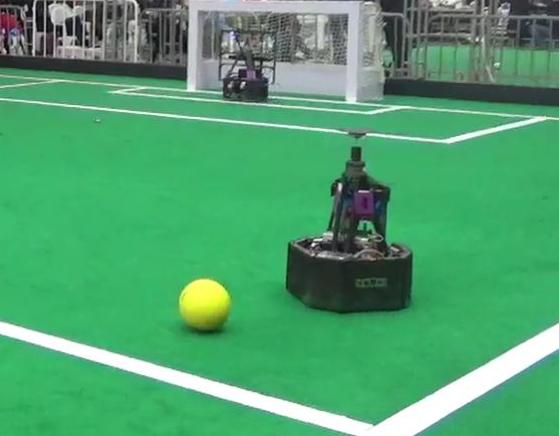robot: (284, 118, 419, 317), (213, 24, 282, 107)
